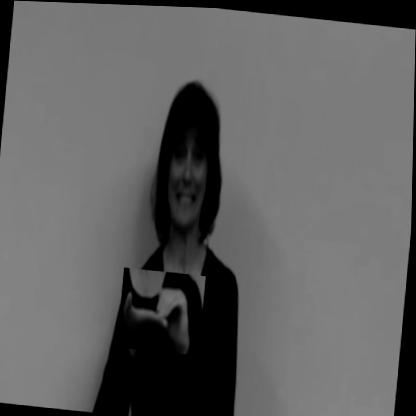ExcuseMe: (118, 266, 207, 355)
